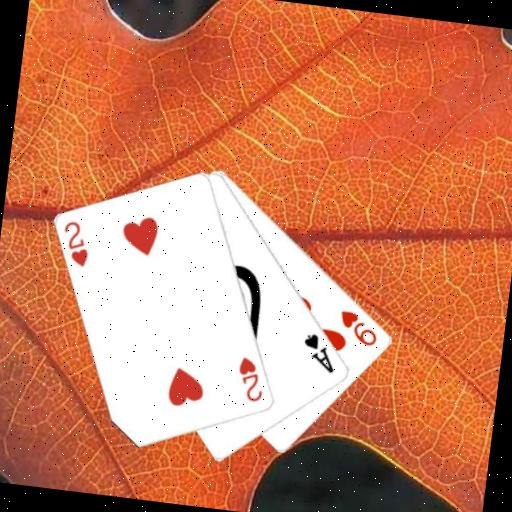2H: (232, 353, 269, 405), (57, 218, 94, 270)
9H: (335, 306, 383, 349)
AS: (298, 330, 340, 376)
